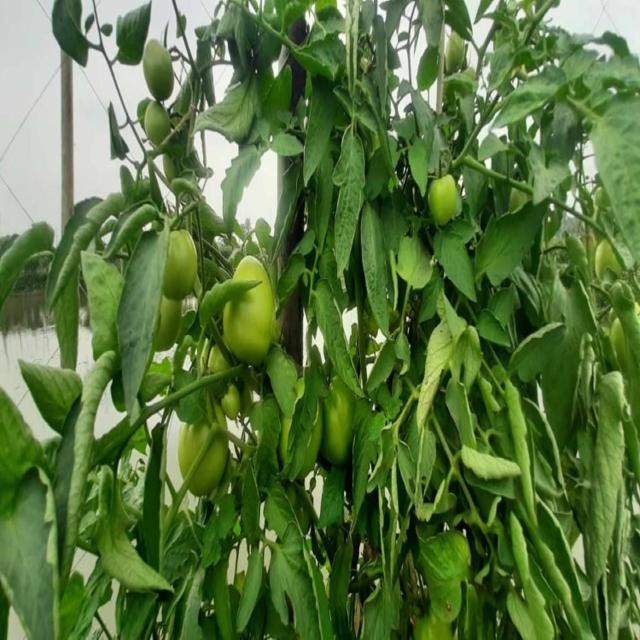tomato: (224, 296, 279, 361), (322, 374, 358, 468), (140, 43, 180, 108), (428, 174, 465, 229), (166, 229, 196, 290), (177, 420, 210, 465), (443, 28, 473, 76), (160, 289, 184, 348), (202, 447, 227, 490), (593, 241, 620, 275), (233, 259, 271, 281), (143, 98, 166, 134), (223, 390, 245, 416)
